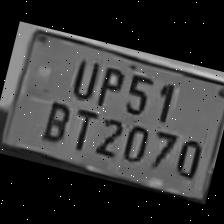0: (168, 130, 206, 181), (116, 114, 152, 164)
1: (148, 73, 184, 124)
2: (89, 109, 126, 159)
5: (116, 66, 156, 117)
7: (142, 121, 178, 172)
B: (36, 94, 74, 145)
P: (90, 58, 128, 109)
T: (62, 100, 100, 152)
U: (63, 50, 103, 100)
